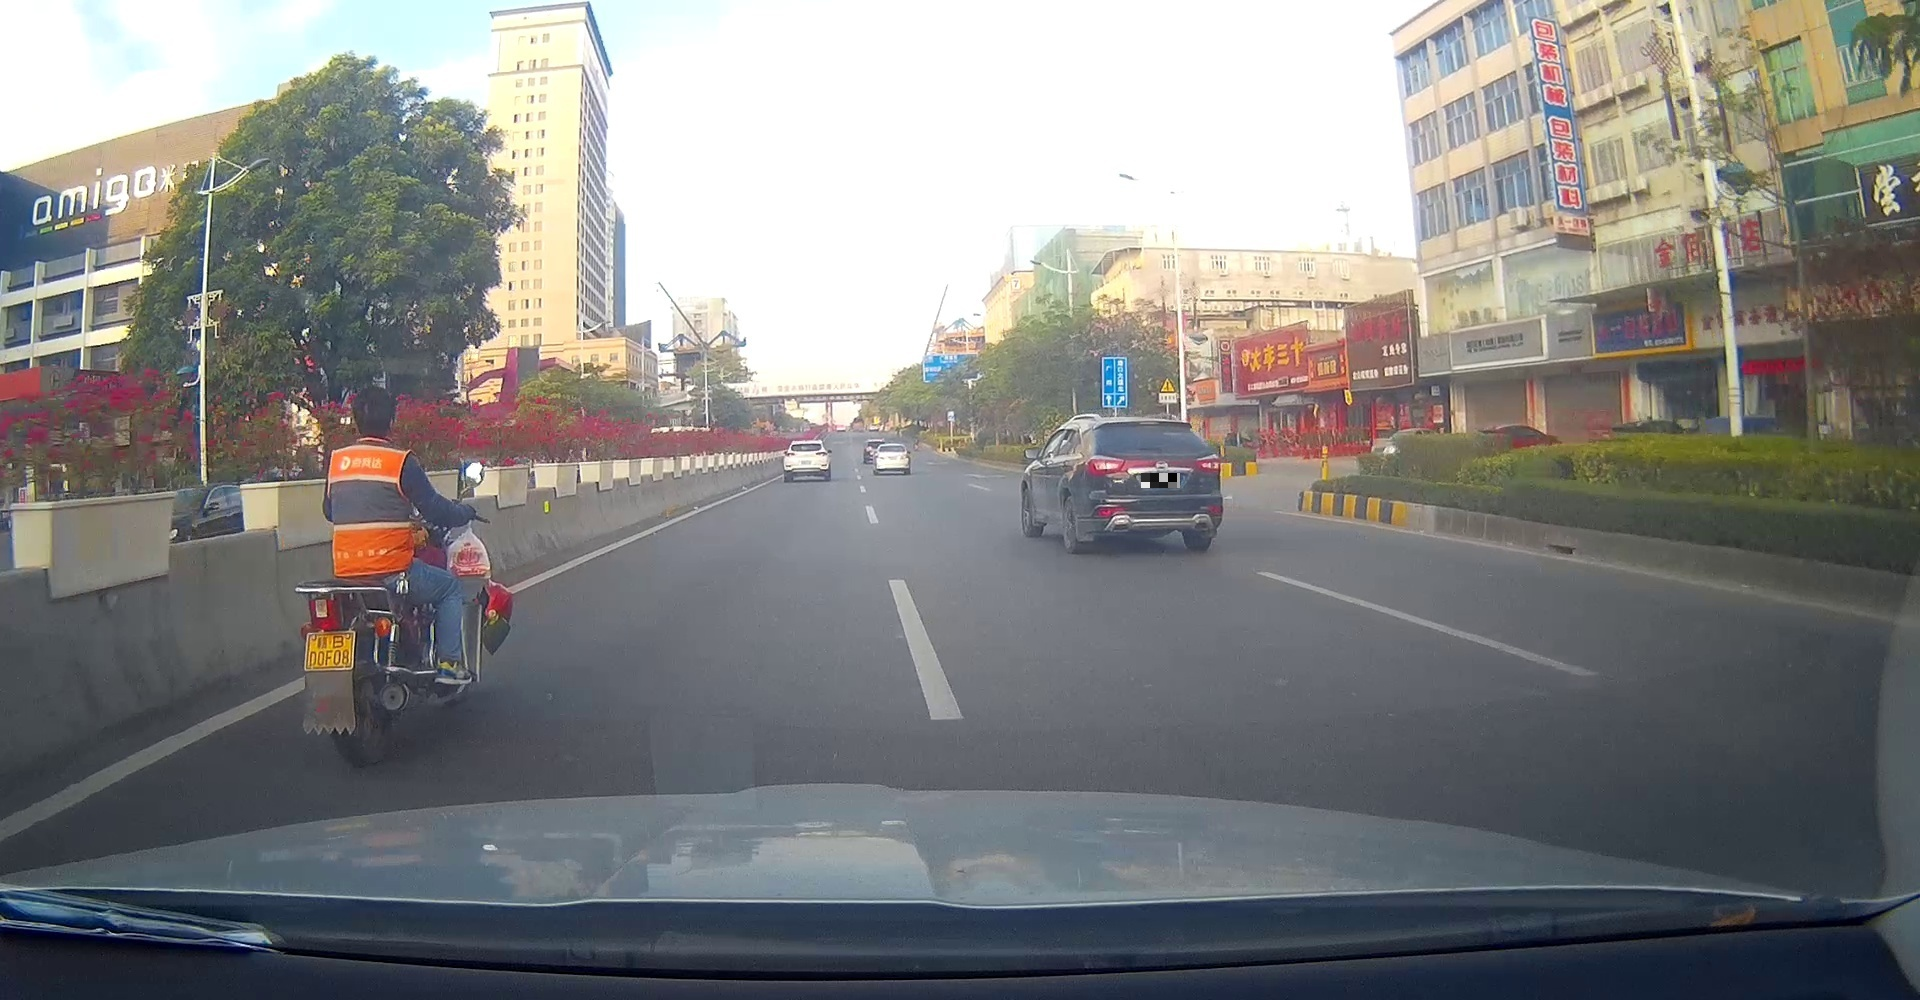L_light: (1086, 458, 1124, 475), (786, 453, 795, 457)
R_light: (1195, 457, 1222, 475), (817, 451, 827, 456)
T_light: (1139, 423, 1161, 425), (801, 444, 810, 445)
day-brake: (1082, 412, 1222, 553)
day-no: (783, 440, 830, 481)
plate_1: (1142, 473, 1180, 489)
